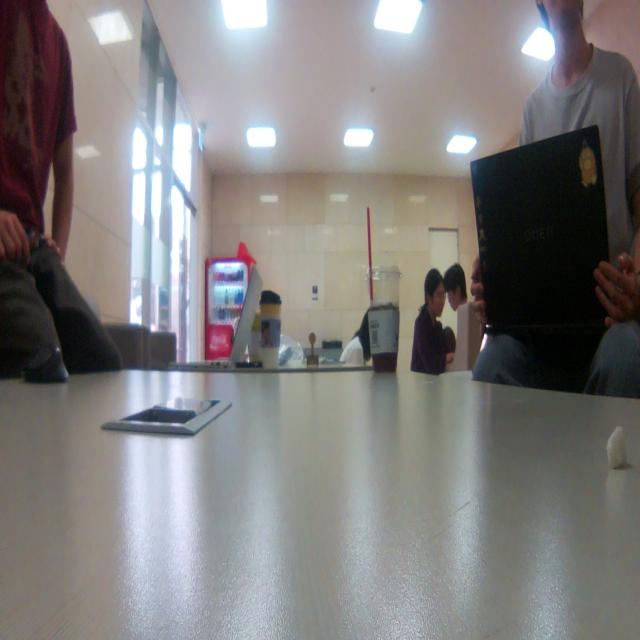target: (306, 331, 319, 367)
